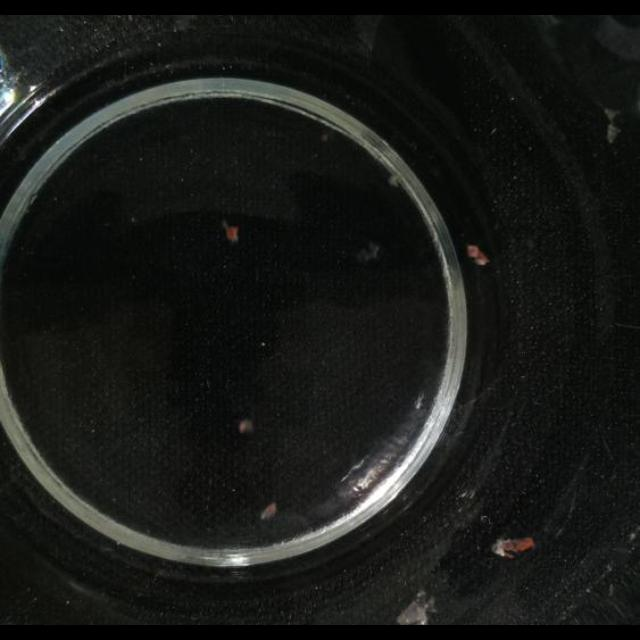Fragment: (491, 534, 535, 560), (396, 595, 434, 625), (465, 244, 489, 266), (222, 223, 240, 244), (259, 502, 277, 522)
microbeads: (456, 396, 478, 426), (356, 241, 380, 263), (238, 419, 255, 435), (387, 172, 403, 188), (628, 530, 638, 542), (320, 132, 330, 142), (608, 582, 614, 598), (490, 126, 498, 136), (585, 587, 591, 595), (260, 341, 266, 347)
